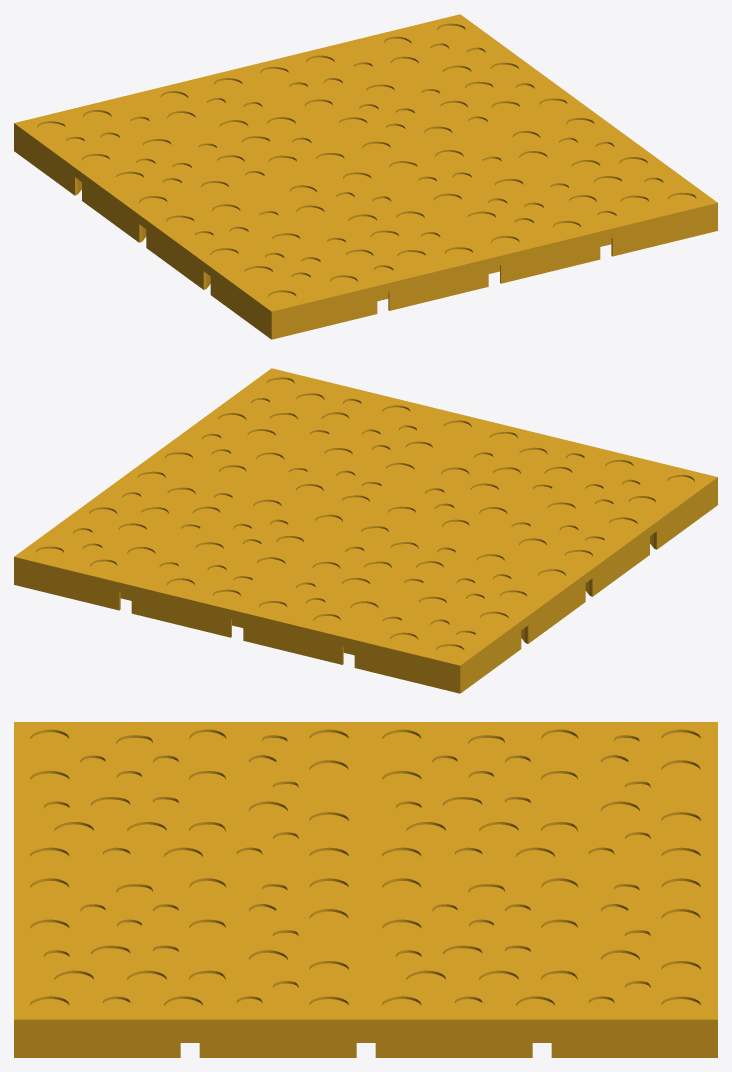
The model's file is 10x10 Sand.obj.
3 renders of one model, top to bottom at view 1: azimuth 30°, elevation 25°; view 2: azimuth 150°, elevation 25°; view 3: azimuth 270°, elevation 25°, orthographic. The views are drawn at different scales.
Visible parts, largest first — view 1: Körper1; view 2: Körper1; view 3: Körper1.
Boxes of the visible parts, x1,y1,x2,y2 form: Körper1: [14, 14, 717, 339]; Körper1: [14, 368, 717, 693]; Körper1: [14, 722, 717, 1057].
Bounding box in the file's own units: 100 × 6 × 100.
